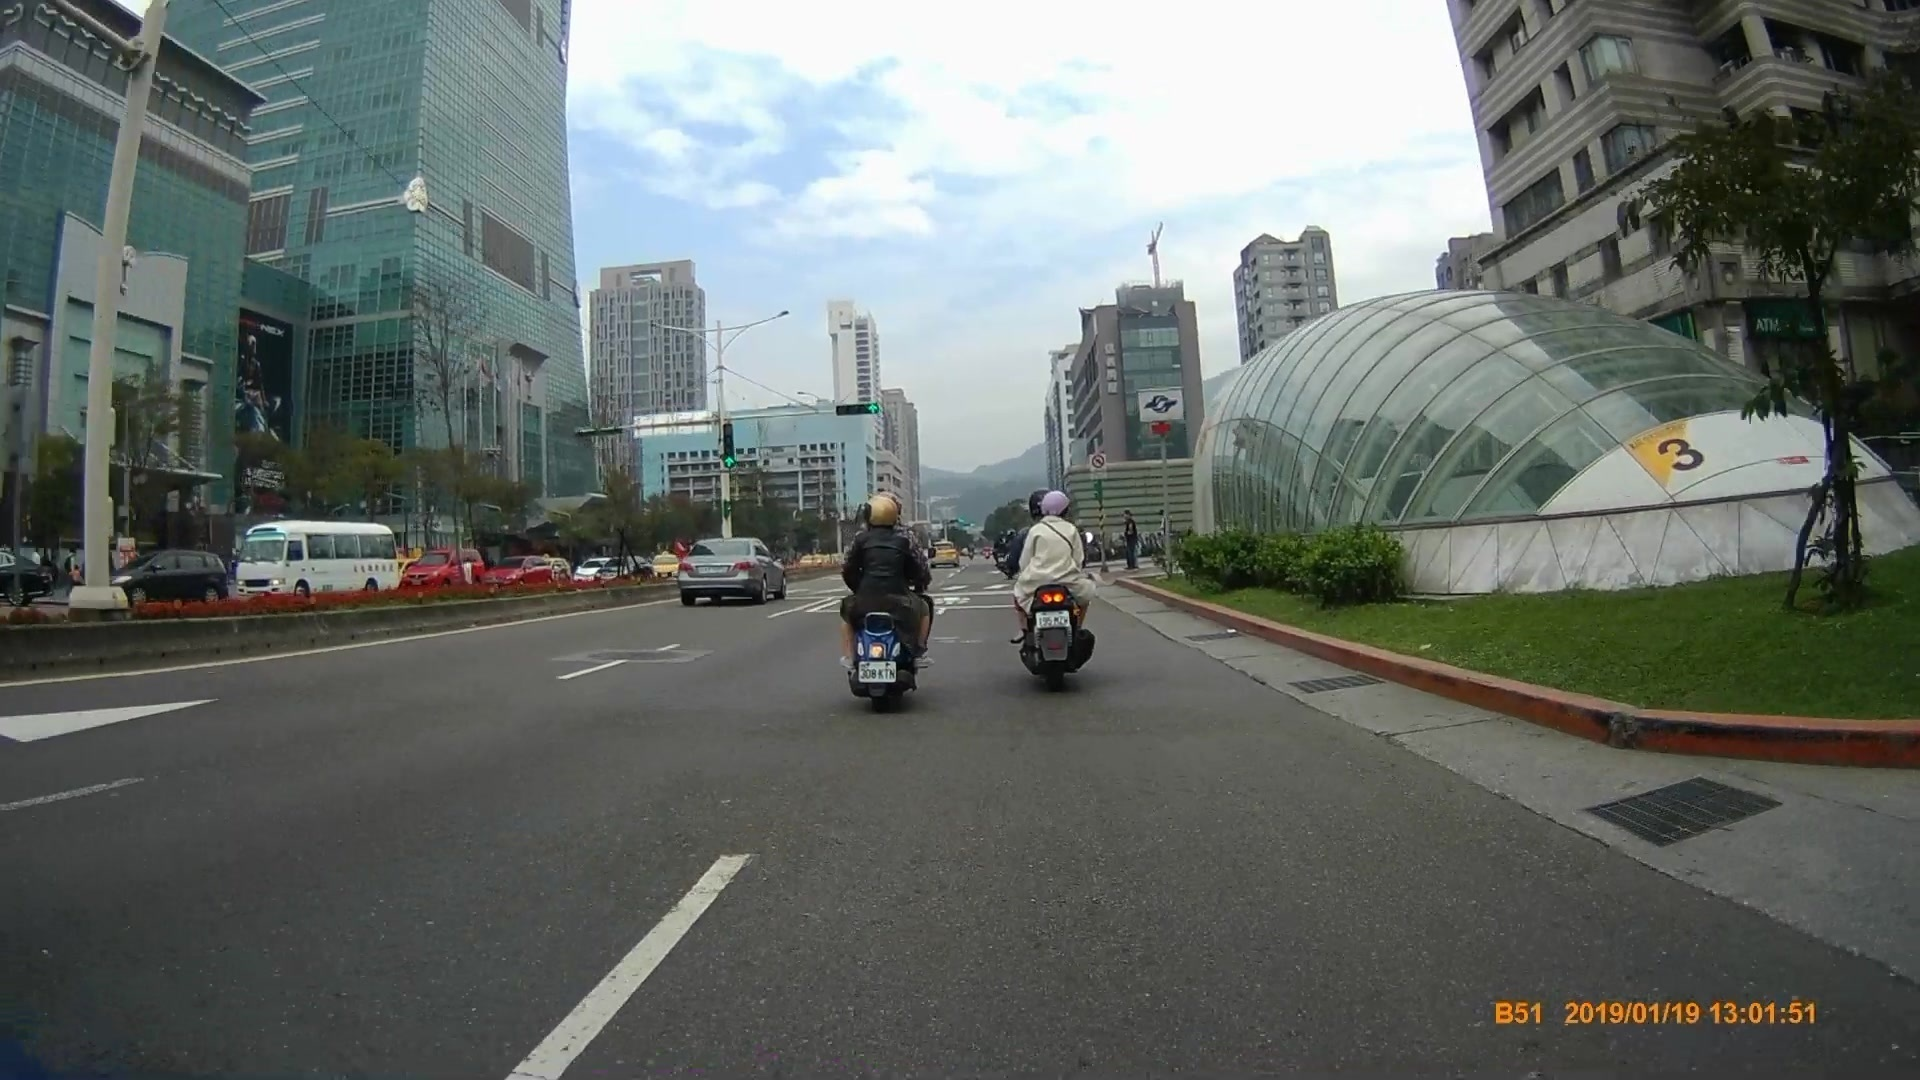License_plate: (851, 657, 900, 689), (1029, 611, 1074, 633)
